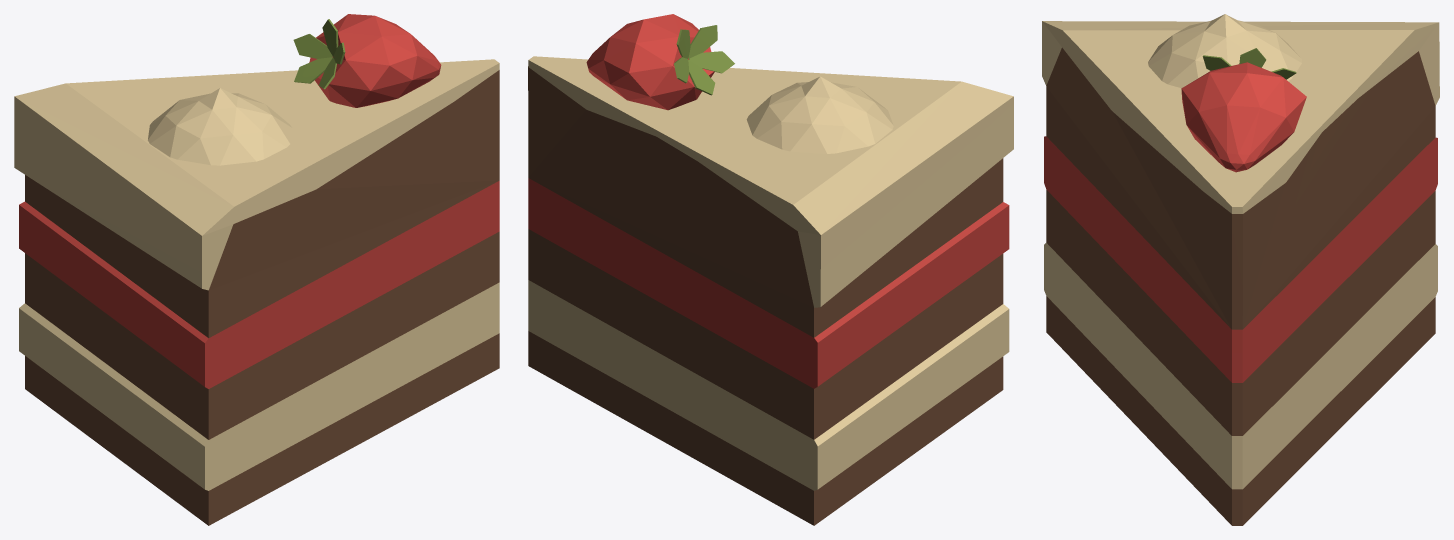
Rendered from Cake_02.fbx.
The picture shows the model from 3 angles, left to right: view 1: azimuth 30°, elevation 25°; view 2: azimuth 150°, elevation 25°; view 3: azimuth 270°, elevation 25°; orthographic projection. The views are drawn at different scales.
Visible parts, largest first — view 1: Cake_02; view 2: Cake_02; view 3: Cake_02.
Boxes of the visible parts, bbox=[...] form: Cake_02: bbox=[14, 14, 499, 525]; Cake_02: bbox=[528, 14, 1013, 525]; Cake_02: bbox=[1042, 14, 1439, 525].
Size of the model in its own units: 11.64 by 10.86 by 9.88.
